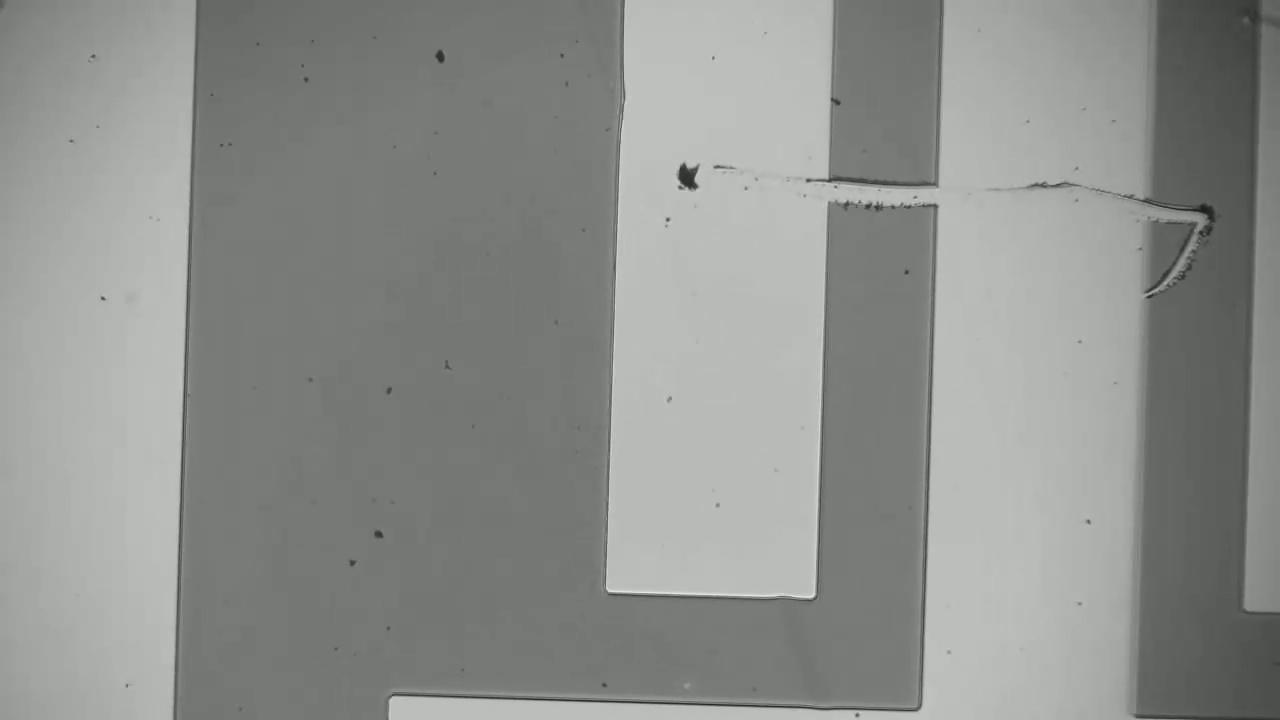Short_circuit: (807, 154, 963, 244), (1122, 180, 1276, 255)
